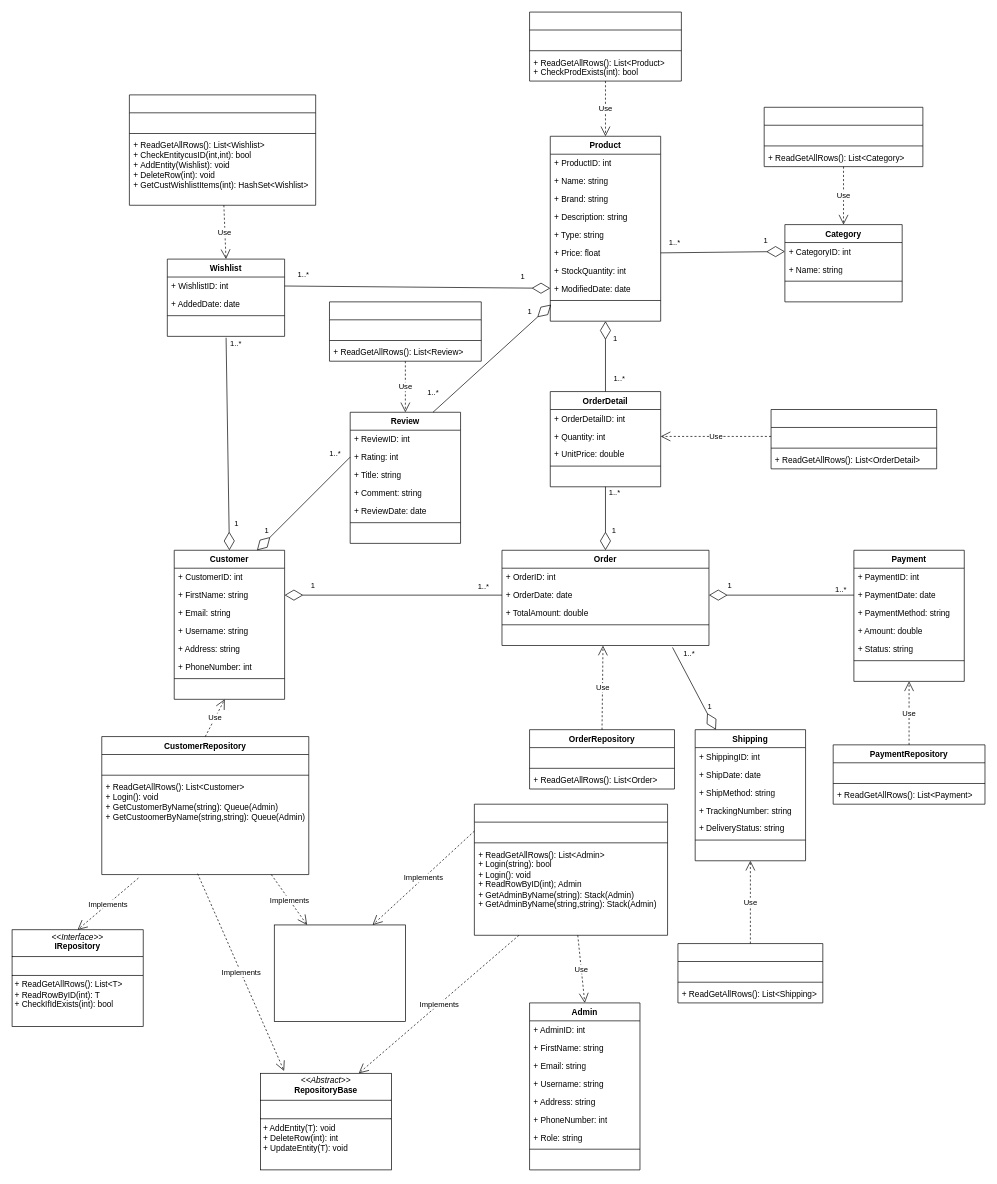
This 997x1184 diagram has some shape labels left out. Here are the shapes that lost their labels. From the top down, the box of each, then its label:
(529, 11, 681, 81): ProductRepository
(129, 94, 316, 205): WishlistRepository
(763, 107, 923, 167): CategoryRepository
(329, 301, 481, 361): ReviewRepository
(770, 409, 937, 469): OrderDetailRepository
(474, 804, 668, 935): AdminRepository
(274, 924, 405, 1022): <<Interface>> ILogin + Login(string): bool
(677, 943, 823, 1003): ShippingRepository
